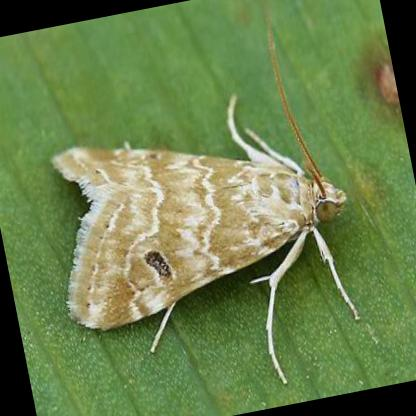Hellula undalis: (49, 5, 360, 390)
